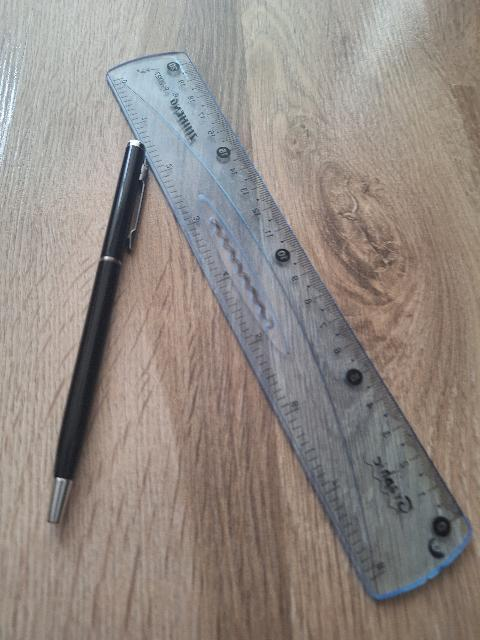writing_tool: (44, 138, 155, 521)
